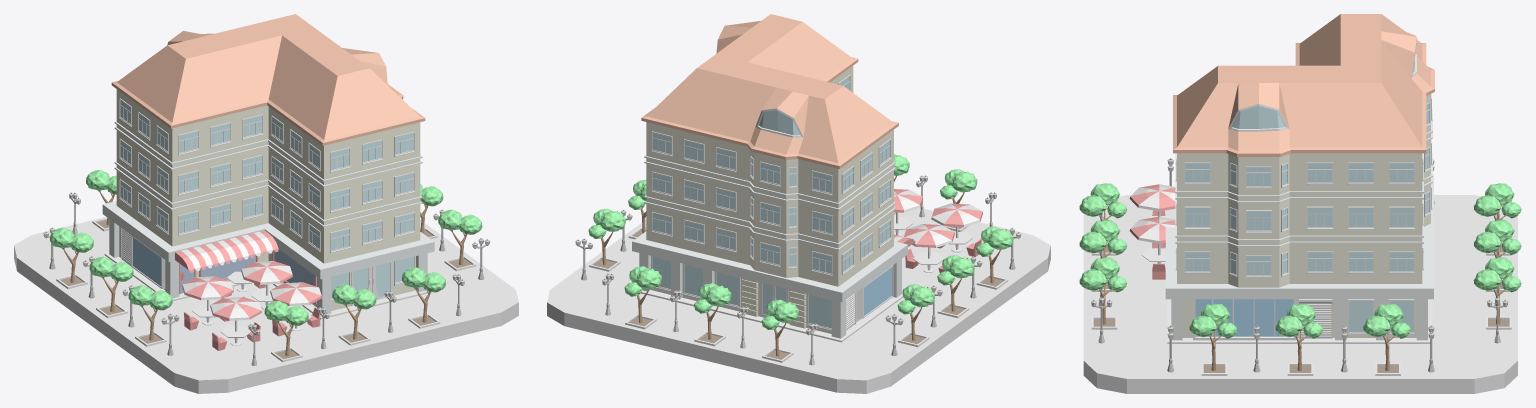
Rendered from low_poly_bilding.fbx.
3 views of the same model, side by side, from view 1: azimuth 30°, elevation 25°; view 2: azimuth 150°, elevation 25°; view 3: azimuth 270°, elevation 25° (orthographic). The views are drawn at different scales.
Visible parts, largest first — view 1: Building_facad, Platform, shed1, shed, showcase, Cube.028, Cube.038, Cube.039, Disc.012, Disc.009, Disc.003, Disc.011 (+6 smaller); view 2: Building_facad, Platform, showcase, Cube.029, Disc.009, Cube.12, Disc.008, Disc.012, Disc.011, Cube.035, Cube.034, Sphere.052 (+2 smaller); view 3: Building_facad, Platform, showcase1, blinds.001, Cube.031, Disc.008, Disc.009, Disc.006, Cube.046, glass.058, glass.015, glass.053 (+34 smaller).
Part boxes in pixels (x1,y1,x2,y2): Building_facad: [102, 14, 434, 319]; Platform: [14, 217, 518, 393]; shed1: [175, 230, 278, 272]; shed: [181, 231, 273, 271]; showcase: [131, 236, 165, 288]; Cube.028: [353, 262, 390, 297]; Cube.038: [274, 249, 314, 285]; Cube.039: [201, 254, 256, 278]; Disc.012: [182, 276, 233, 310]; Disc.009: [210, 297, 261, 331]; Disc.003: [241, 261, 292, 295]; Disc.011: [183, 276, 233, 299]; Building_facad: [632, 14, 907, 342]; Platform: [547, 207, 1050, 393]; showcase: [856, 265, 893, 318]; Cube.029: [809, 295, 831, 328]; Disc.009: [931, 203, 981, 238]; Cube.12: [831, 300, 845, 338]; Disc.008: [932, 203, 982, 227]; Disc.012: [905, 224, 953, 258]; Disc.011: [904, 224, 954, 247]; Cube.035: [684, 264, 702, 296]; Cube.034: [716, 272, 739, 305]; Sphere.052: [600, 211, 625, 231]; Building_facad: [1165, 14, 1434, 343]; Platform: [1083, 195, 1517, 393]; showcase1: [1193, 299, 1296, 340]; blinds.001: [1299, 299, 1332, 338]; Cube.031: [1349, 301, 1373, 331]; Disc.008: [1129, 184, 1175, 211]; Disc.009: [1131, 184, 1175, 216]; Disc.006: [1131, 216, 1175, 255]; Cube.046: [1416, 299, 1427, 340]; glass.058: [1246, 211, 1270, 230]; glass.015: [1185, 252, 1209, 271]; glass.053: [1349, 252, 1373, 271].
Size of the model in its own units: 4823 by 3074 by 4841.
